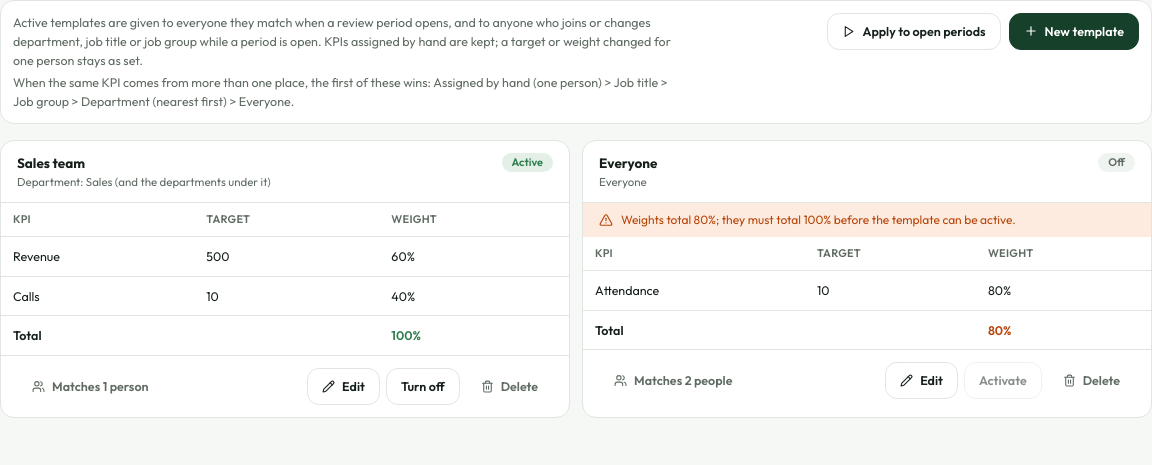
Test: KPI templates › lists who a template matches
The width and height of the screenshot is (1152, 465).
Click the button with aria-label "People matching Sales team" at (90, 386), box [17,368,164,405]
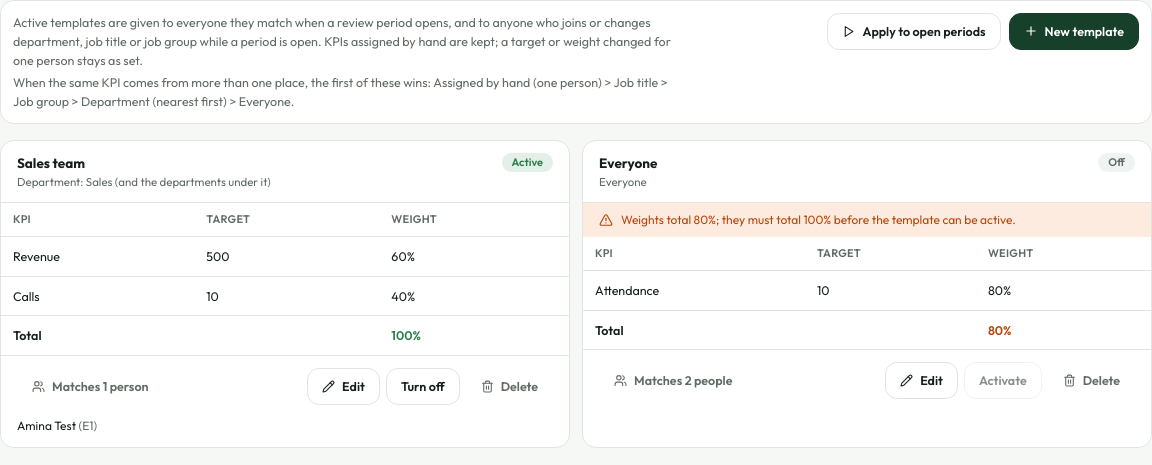
expect the list item "Amina Test (E1)" is shown: met, box [17,418,97,433]
